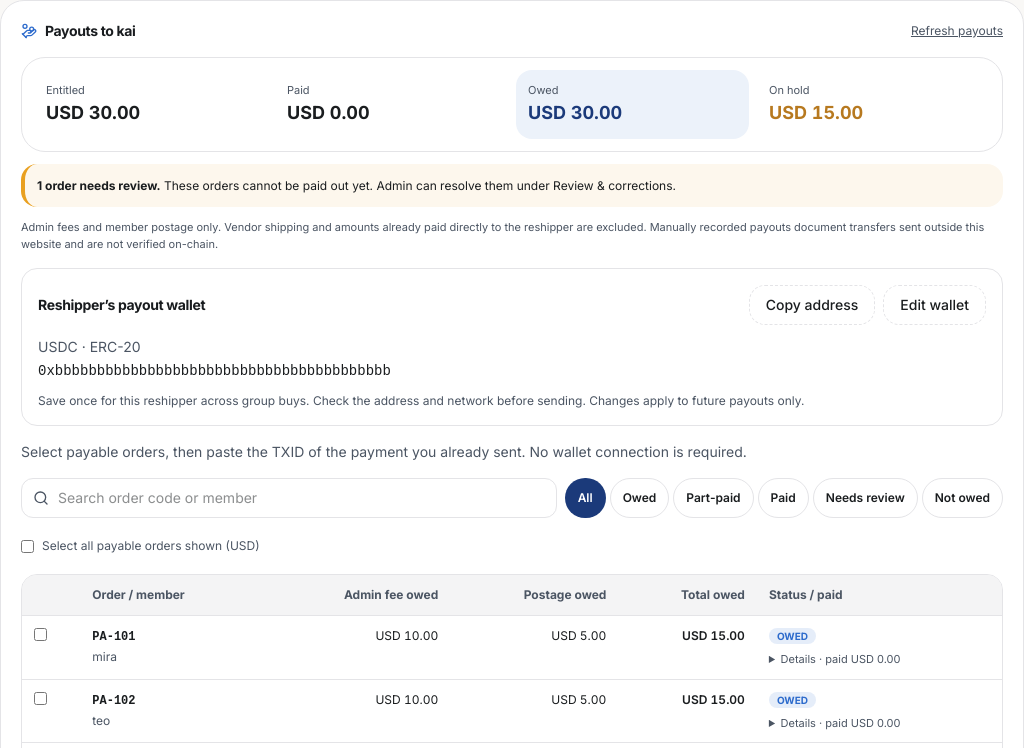
Test: uses the TXID recording form as the main flow without a wallet connection
Click the checkbox labelled "Select all payable orders shown (USD)" at {"x": 28, "y": 546}, box [21,540,34,552]
(page scrolled)
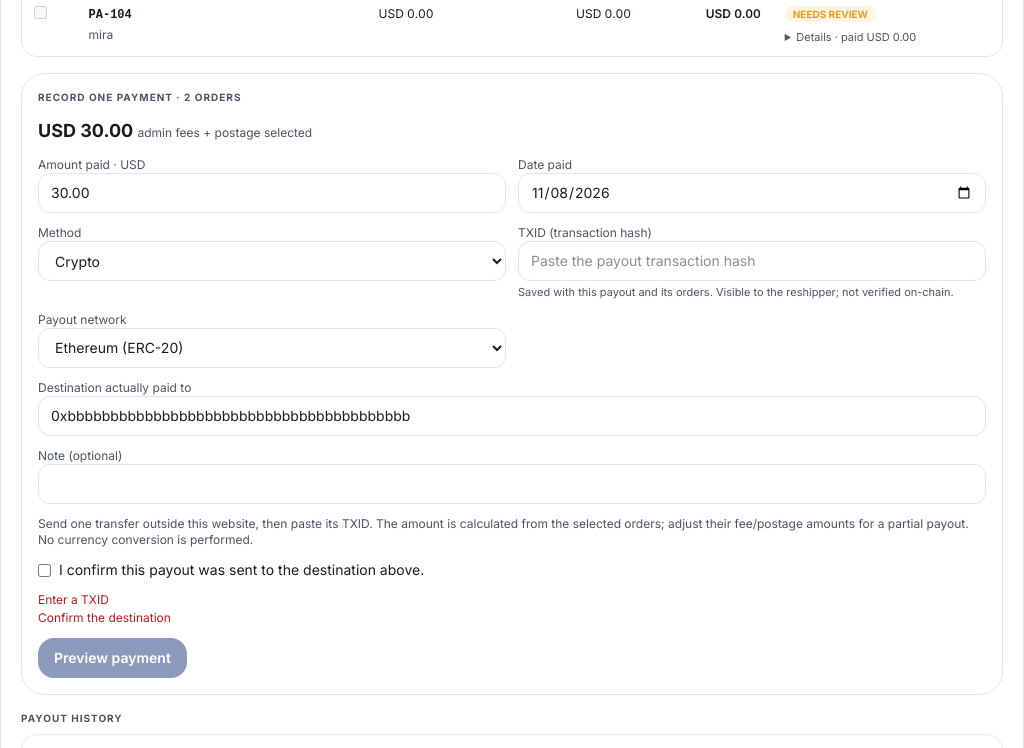
Check: the element named "Record payout" is shown
